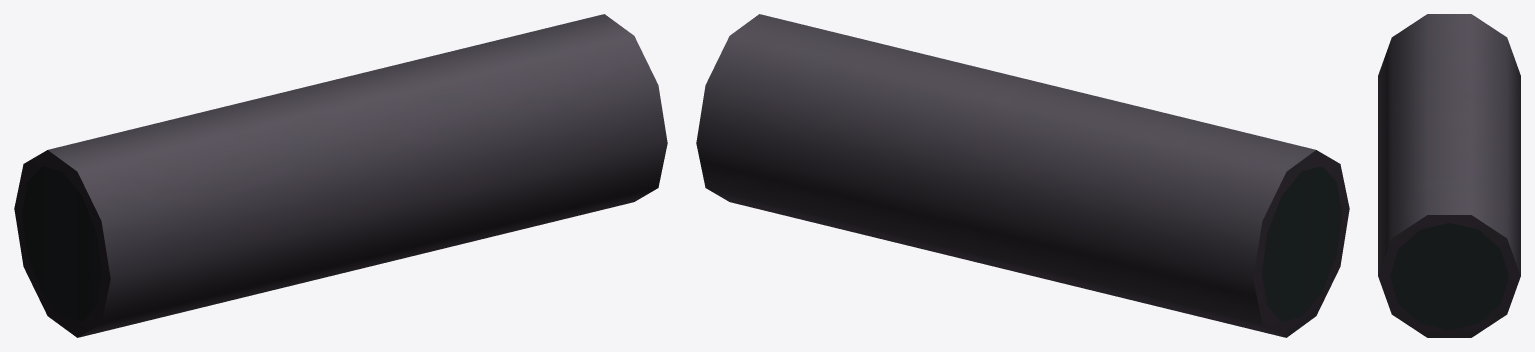
The model's file is Pipe_2E.fbx.
3 renders of one model, left to right at view 1: azimuth 30°, elevation 25°; view 2: azimuth 150°, elevation 25°; view 3: azimuth 270°, elevation 25°, orthographic. The views are drawn at different scales.
Parts seen in each view (by area): view 1: Pipe_2E; view 2: Pipe_2E; view 3: Pipe_2E.
Boxes of the visible parts, x1,y1,x2,y2 form: Pipe_2E: [14, 14, 667, 337]; Pipe_2E: [696, 14, 1349, 337]; Pipe_2E: [1378, 14, 1520, 337].
Size of the model in its own units: 4.01 by 1.14 by 1.2.
